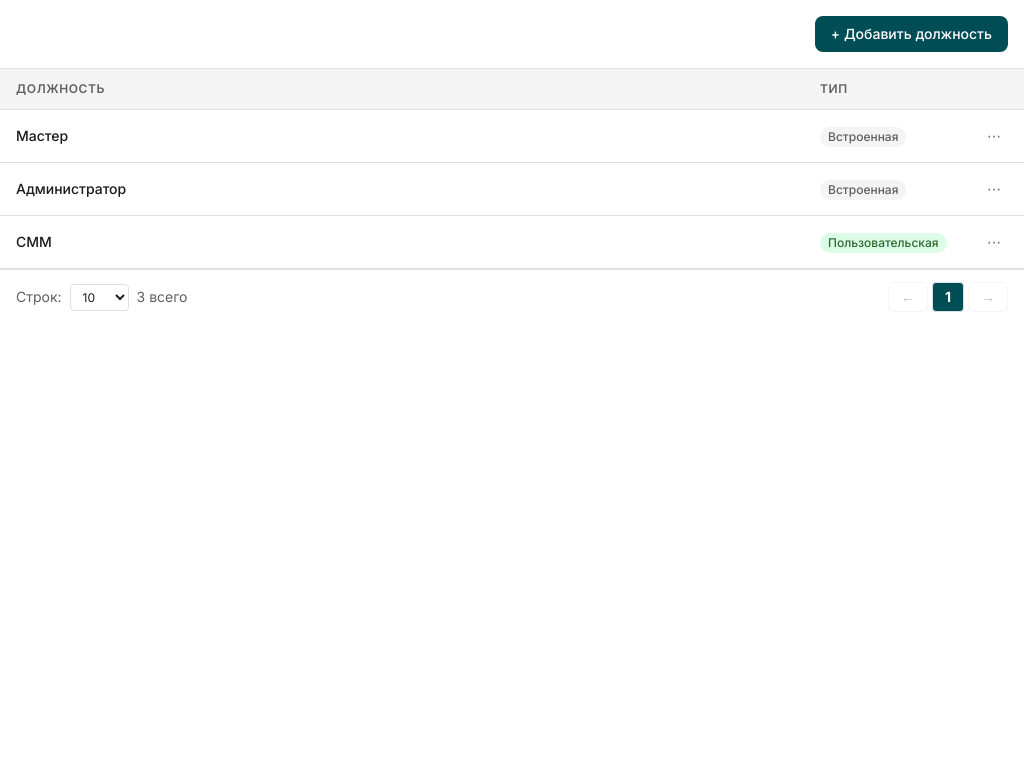
Test: PositionsTable — rename (title freely editable, D4) › clicking a row opens the edit modal prefilled with the current title
Expected: the text "Мастер" is shown, [16,127,68,144]
Click the row with test id "position-row-master" at point(512, 136), box [0,110,1023,162]
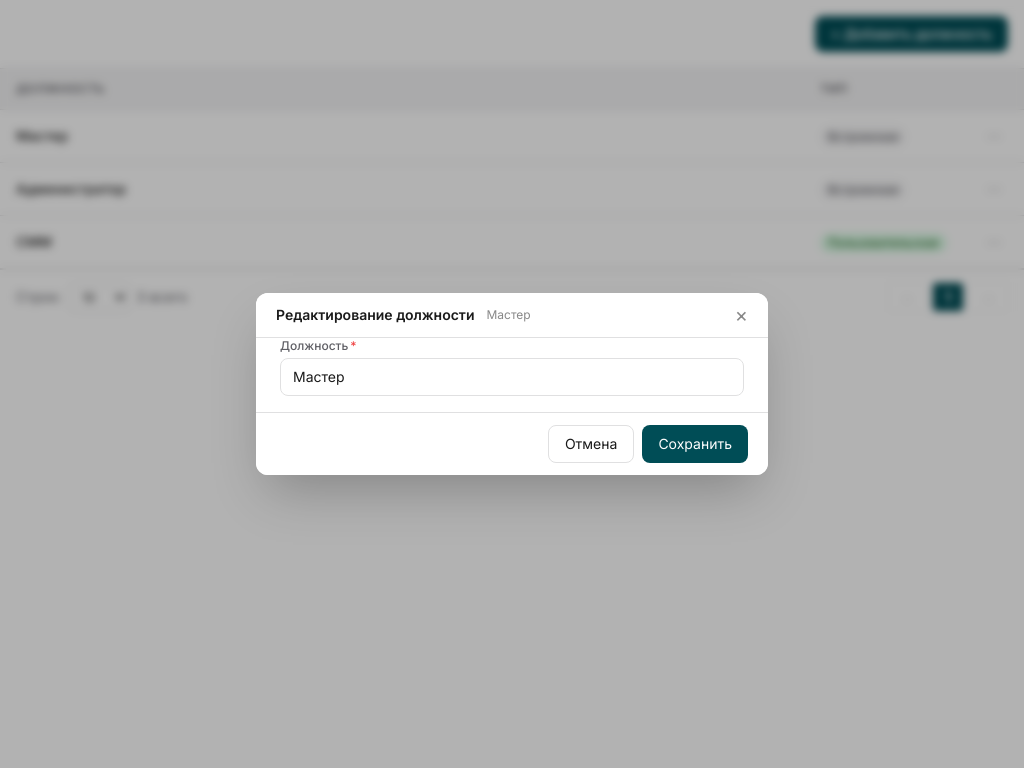
Expected: the heading "Редактирование должности" is shown, [276,305,474,325]
Expected: the field labelled "Должность" holds "Мастер", [280,358,744,396]
